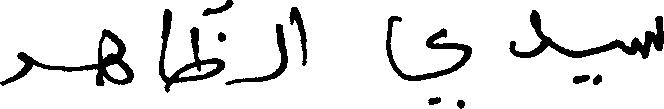X: (387, 11, 469, 108), (173, 0, 231, 89), (575, 34, 625, 89), (98, 24, 133, 90), (512, 5, 546, 62), (627, 11, 663, 63), (0, 47, 30, 90), (160, 4, 171, 97), (290, 2, 304, 70), (276, 19, 285, 82)
